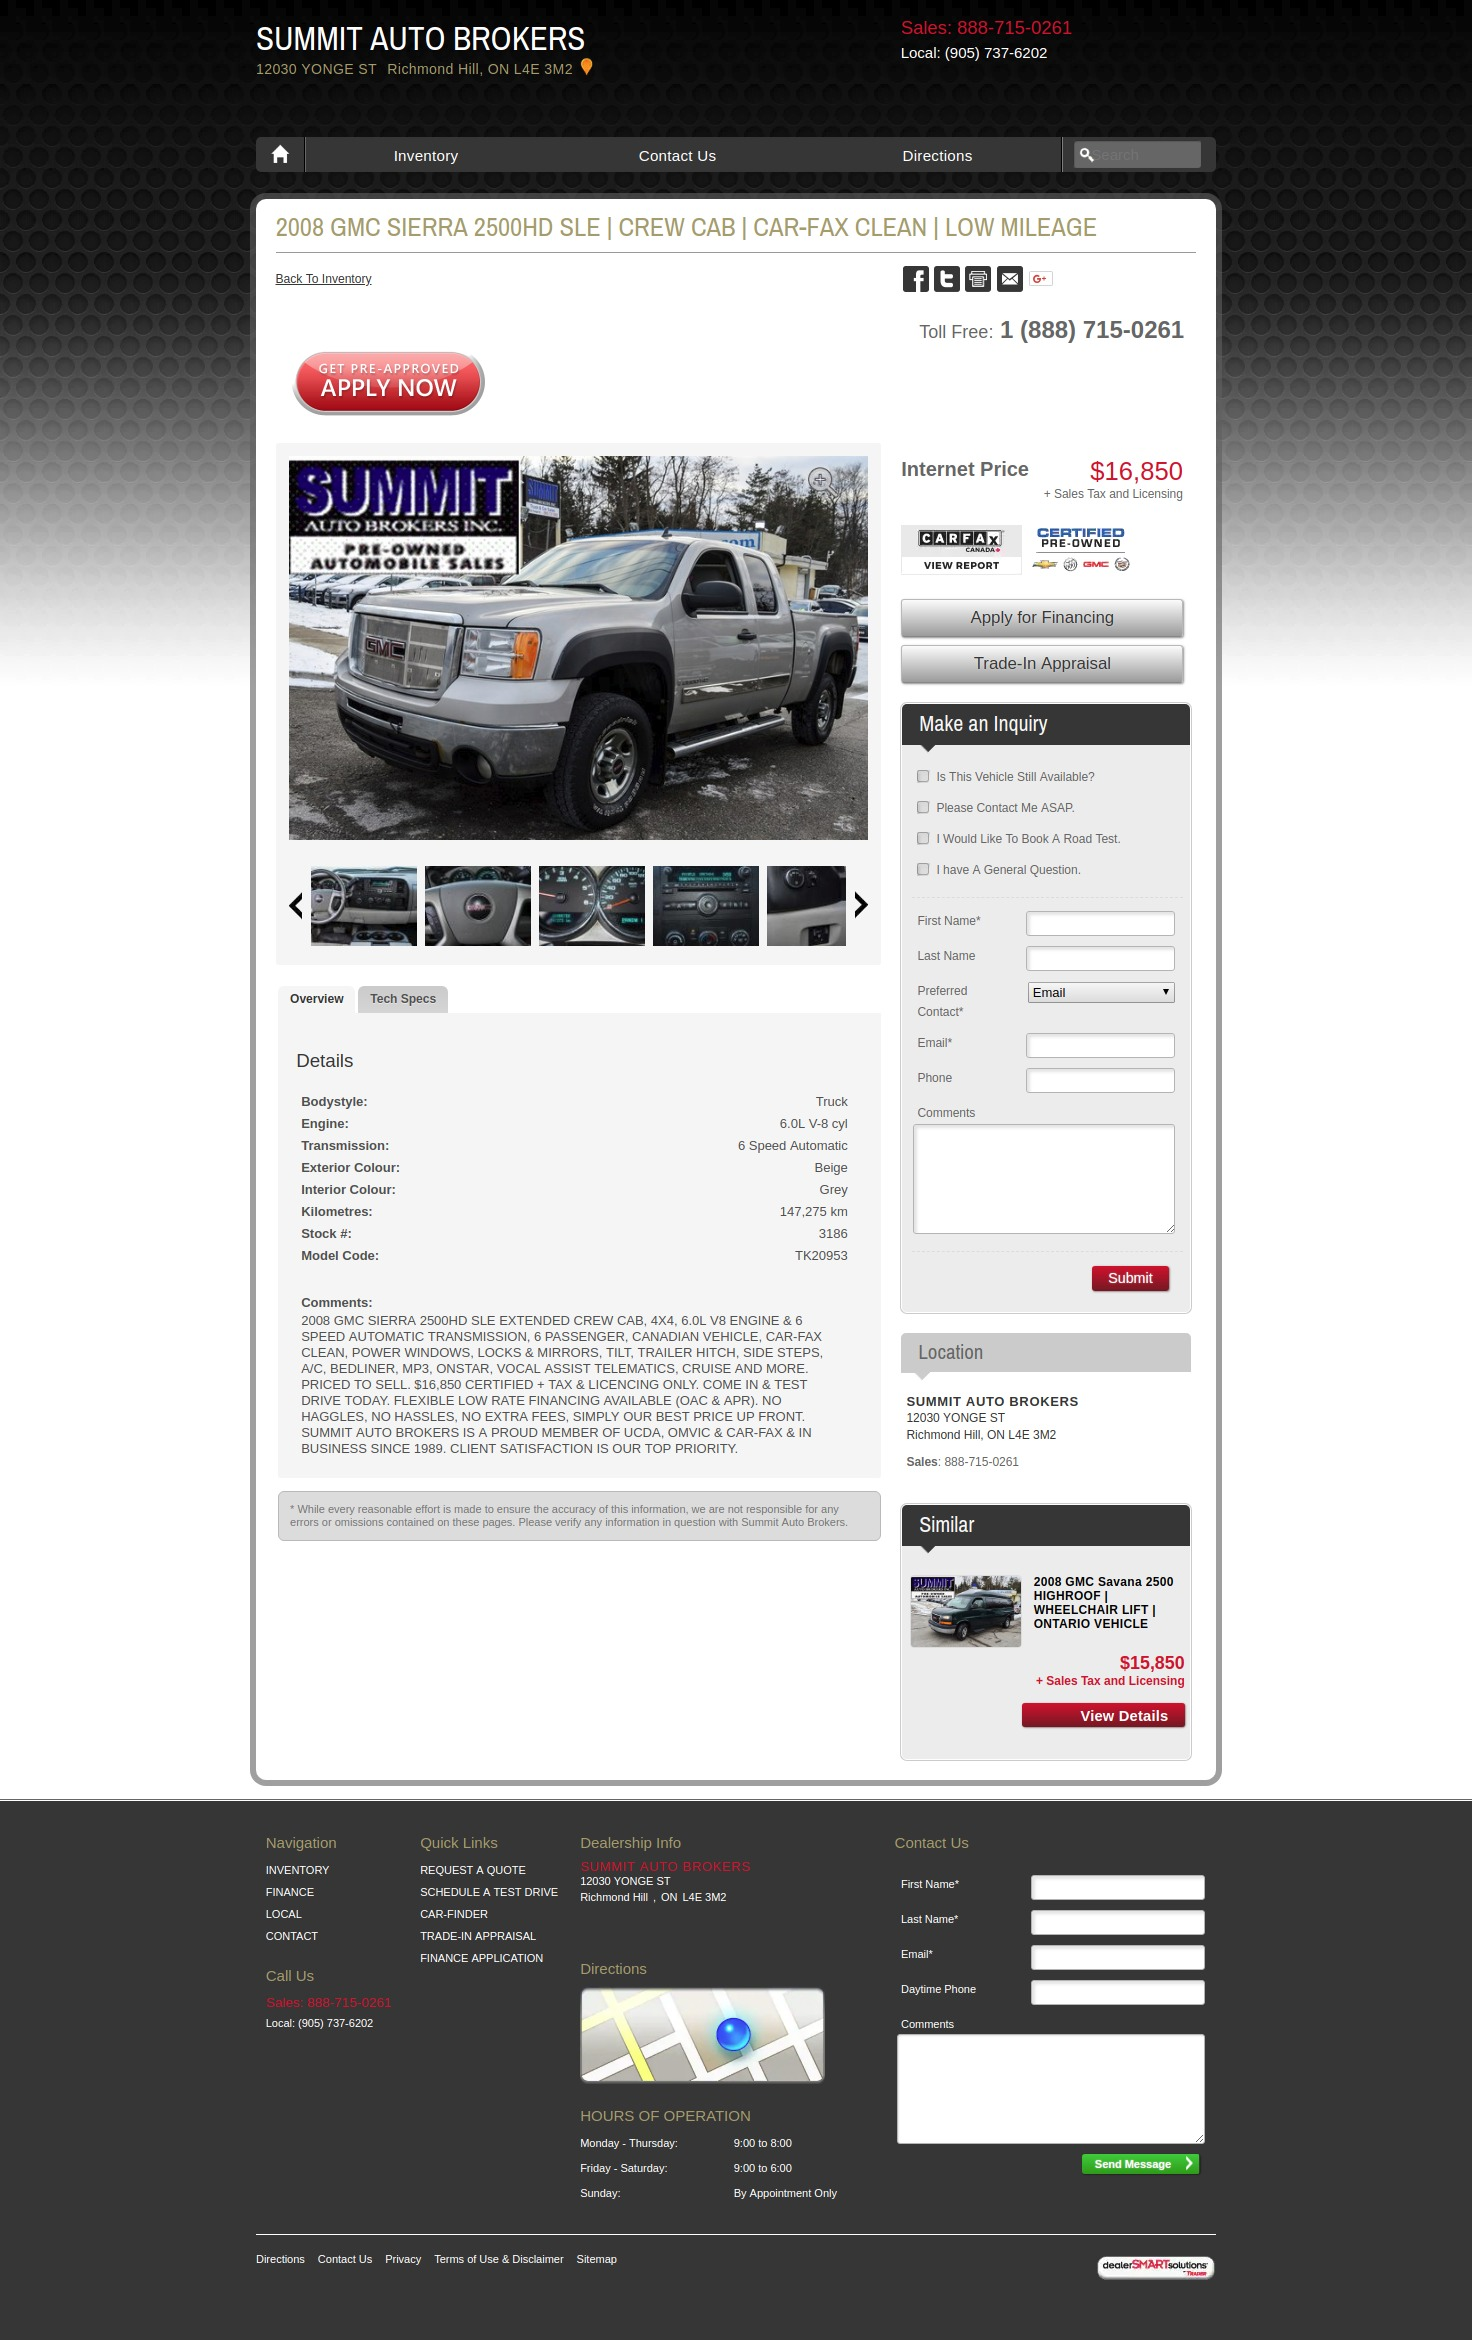car: (853, 890, 872, 921)
